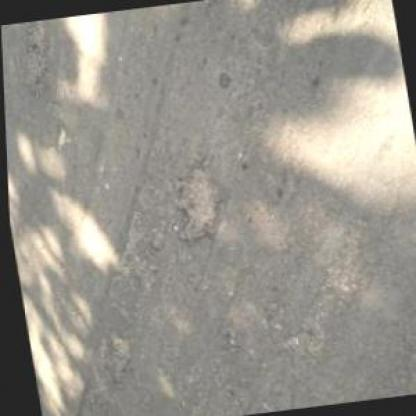pothole: (162, 157, 229, 248)
